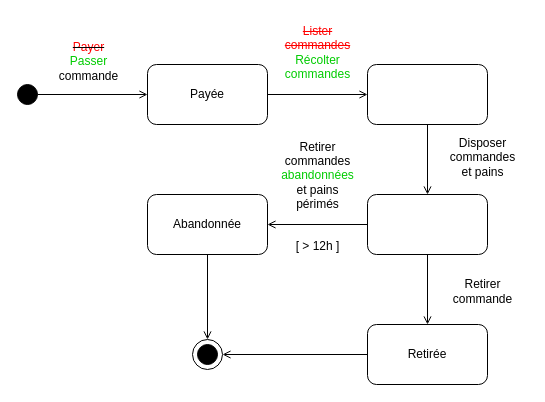
The diagram is 545 pixels wide and 402 high, and some of its shapes have lost their labels. Here are the shapes that lost their labels. From the top down, the centre of each, then its label:
pixel 427 94: Listée Récoltée
pixel 427 224: Disposée
